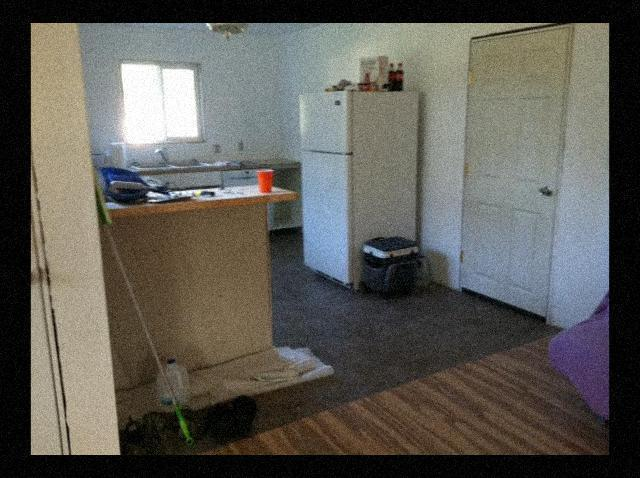Bote de Basura: (360, 233, 421, 301)
Lavaplatos: (128, 143, 238, 176)
Otro Obstaculo: (89, 184, 211, 446), (201, 391, 261, 442), (154, 353, 192, 410)
